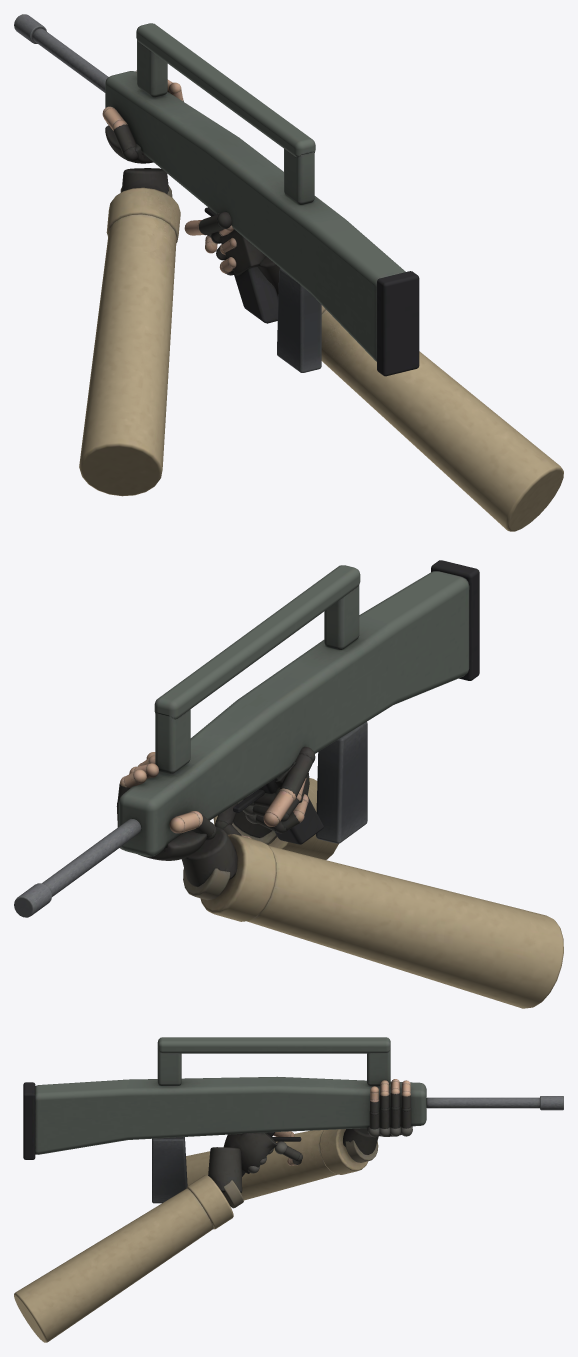
The model's file is salve.glb.
3 views of the same model, one above another, from view 1: azimuth 30°, elevation 25°; view 2: azimuth 150°, elevation 25°; view 3: azimuth 270°, elevation 25° (orthographic). The views are drawn at different scales.
Visible parts, largest first — view 1: hænder, salve; view 2: salve, hænder; view 3: salve, hænder.
Boxes of the visible parts, box(x1,y1,x2,y2) form: hænder: box(79, 70, 563, 531); salve: box(14, 14, 419, 376); salve: box(14, 560, 479, 917); hænder: box(116, 747, 563, 1008); salve: box(23, 1037, 563, 1203); hænder: box(14, 1079, 412, 1342).
Bounding box in the file's own units: 0.5162 × 0.4715 × 0.9208.
2 materials, 2 textured.
